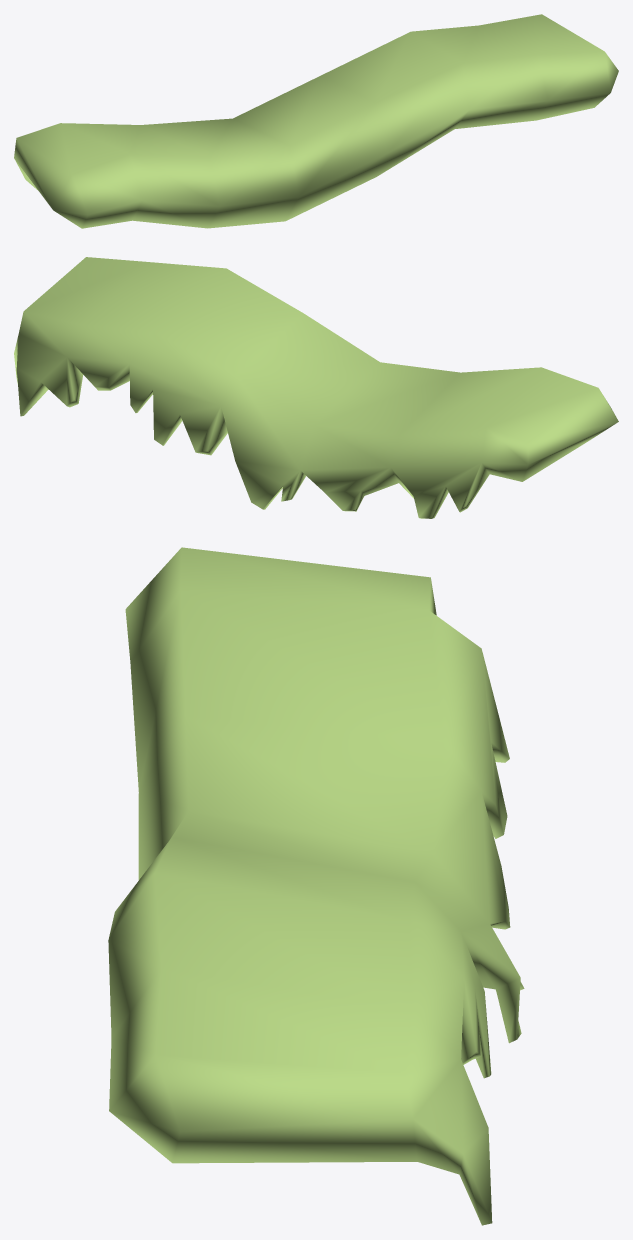
File: platform_decor_2.fbx
3 views of the same model, one above another, from view 1: azimuth 30°, elevation 25°; view 2: azimuth 150°, elevation 25°; view 3: azimuth 270°, elevation 25° (orthographic). The views are drawn at different scales.
Parts seen in each view (by area): view 1: platform_decor_2; view 2: platform_decor_2; view 3: platform_decor_2.
Part boxes in pixels (x1,y1,x2,y2): platform_decor_2: [14, 14, 618, 228]; platform_decor_2: [14, 257, 618, 518]; platform_decor_2: [108, 547, 524, 1225].
Bounding box in the file's own units: 1558 × 385 × 503.
